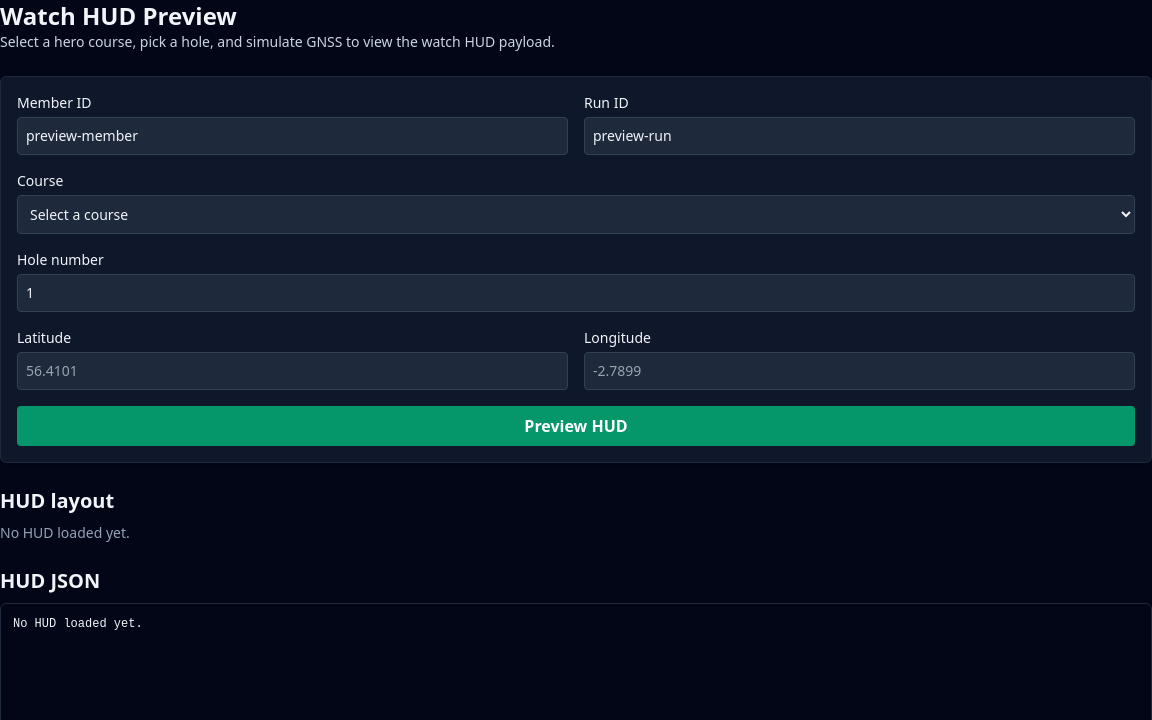
HudPreviewPage › loads bundles and previews HUD payload
Select "Links Crest (18 holes)" in the dropdown labelled "Course" at (576, 214), box [17,195,1135,234]
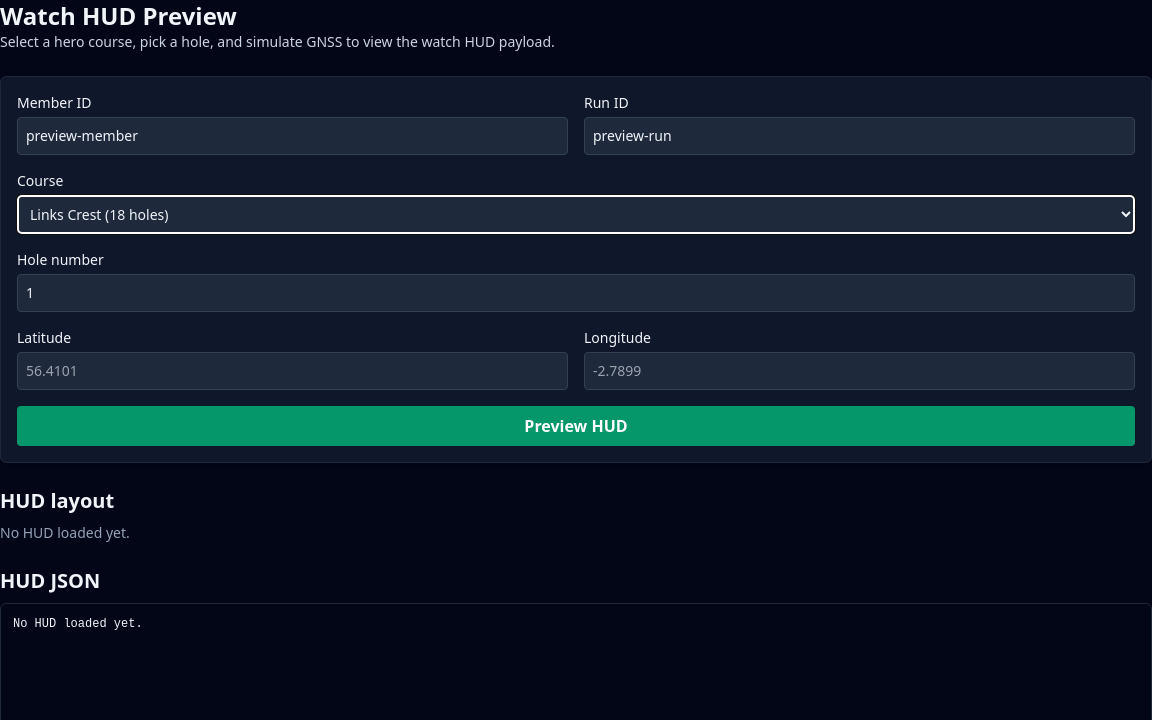
Type "56.41" into the field labelled "Latitude".
click(292, 371); type("56.41")  # box [17,352,568,390]
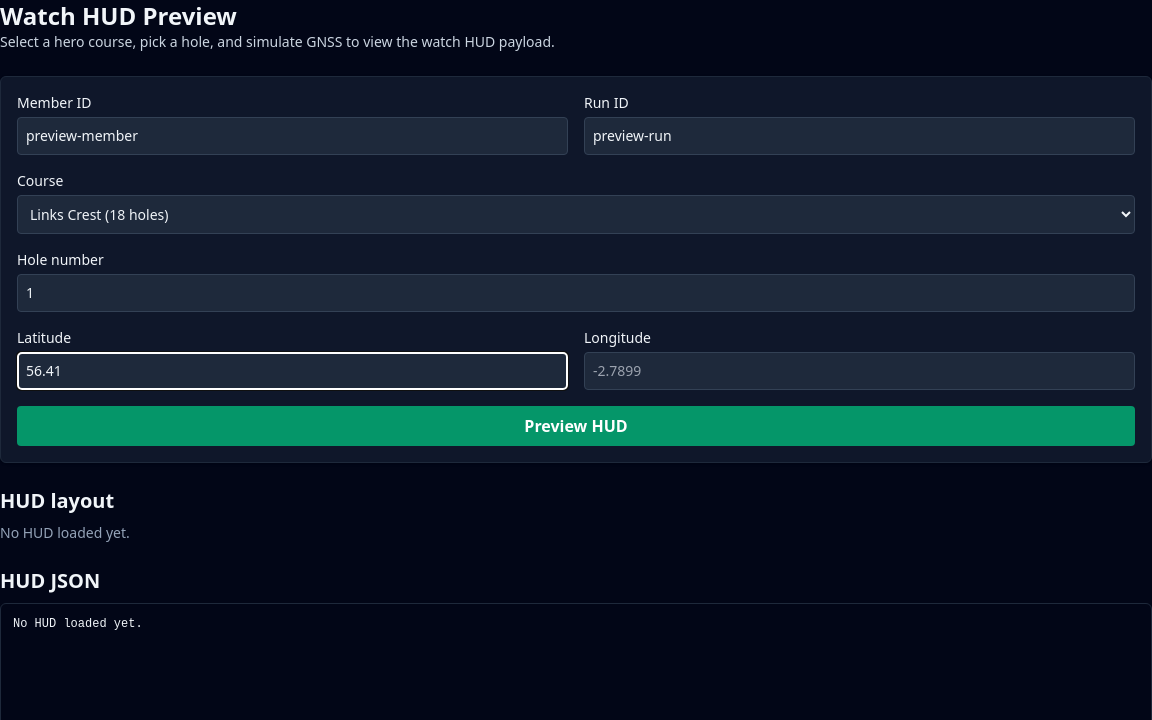
Type "-2.79" into the field labelled "Longitude".
click(860, 371); type("-2.79")  # box [584,352,1135,390]
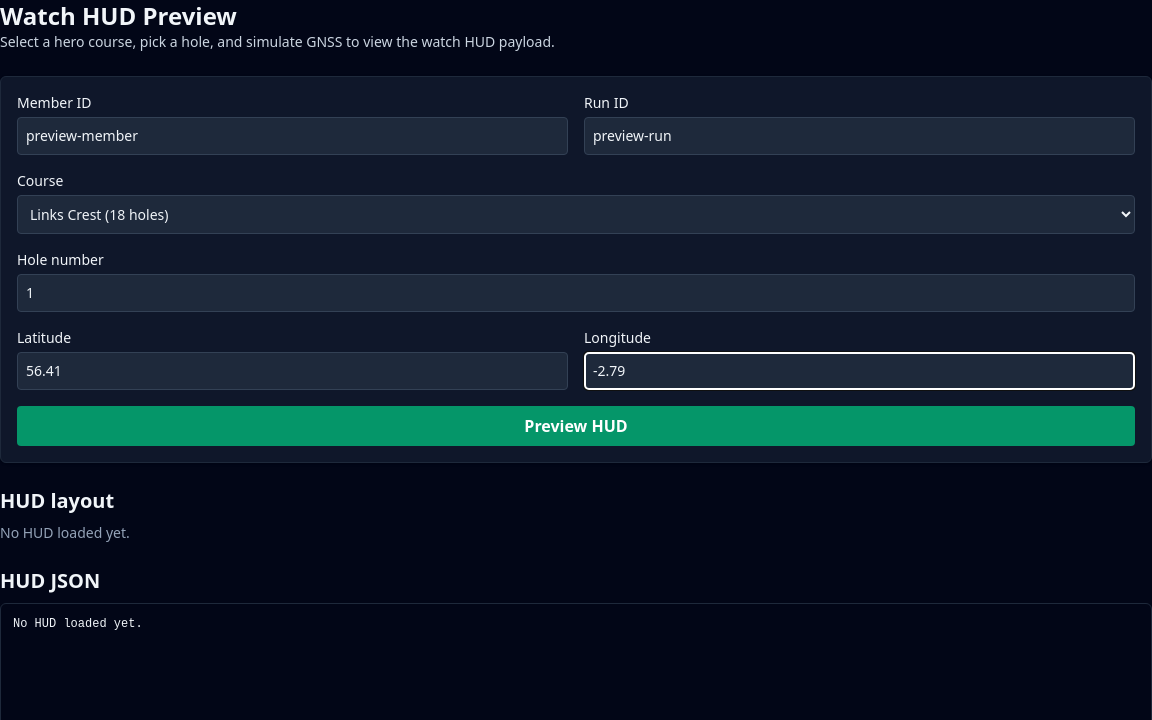
Click the button "Preview HUD".
click(576, 426)  # box [17,406,1135,446]
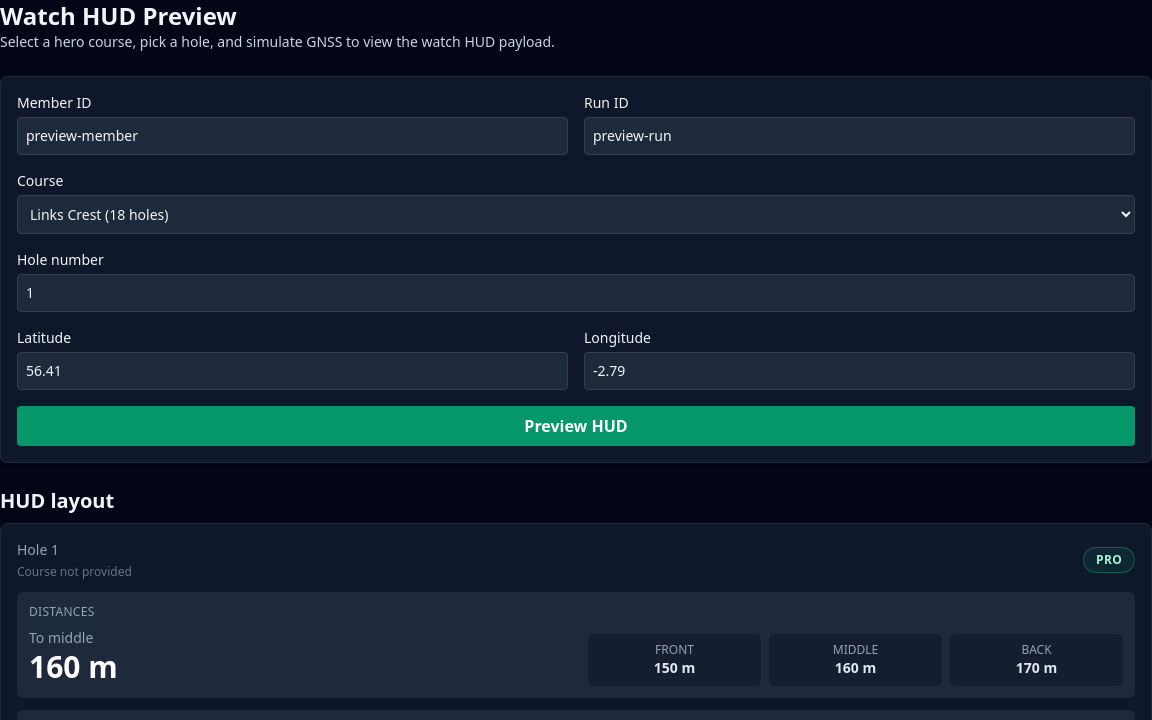
Check: the text "150 m" is shown, box [654,658,695,676]
